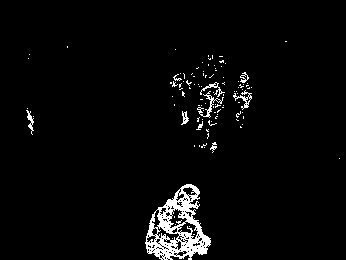person: (144, 180, 210, 260), (195, 77, 226, 154), (233, 69, 253, 129)
